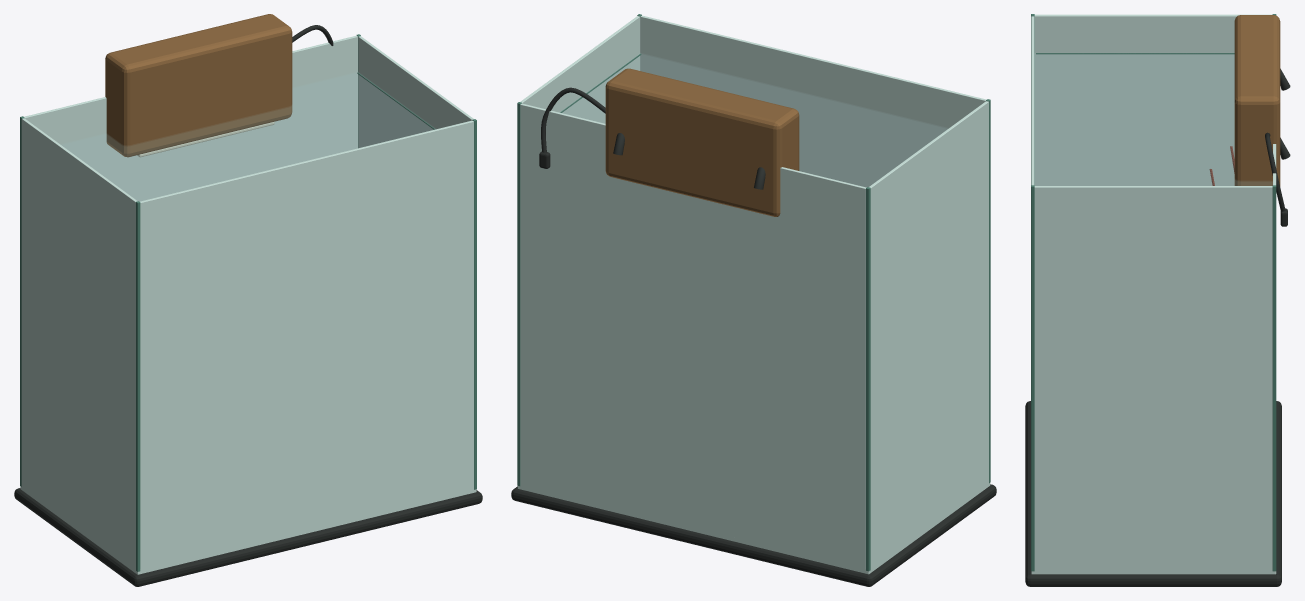
File: A-NEW-20261026-AQUARIUM-001_LOD0_R2.fbx
The picture shows the model from 3 angles, left to right: view 1: azimuth 30°, elevation 25°; view 2: azimuth 150°, elevation 25°; view 3: azimuth 270°, elevation 25°; orthographic projection. The views are drawn at different scales.
Parts seen in each view (by area): view 1: front back glass, side glass, plain upper rear housing, front back glass.001, water surface, side glass.001, aquarium plinth, bottom glass, glass vertical edge seam, glass vertical edge seam.002, glass vertical edge seam.001; view 2: front back glass.001, side glass, front back glass, plain upper rear housing, water surface, aquarium plinth, side glass.001, bottom glass, glass vertical edge seam.001, glass vertical edge seam.003, glass vertical edge seam, short completed cable; view 3: side glass.001, side glass, water surface, plain upper rear housing, aquarium plinth, glass vertical edge seam.003, glass vertical edge seam.002, bottom glass, front back glass, short completed cable, side waterline.
Part boxes in pixels (bbox=[...]): front back glass: bbox=[140, 120, 473, 569]; side glass: bbox=[21, 118, 137, 568]; plain upper rear housing: bbox=[105, 14, 292, 157]; front back glass.001: bbox=[24, 35, 357, 201]; water surface: bbox=[62, 73, 433, 200]; side glass.001: bbox=[358, 36, 473, 148]; aquarium plinth: bbox=[14, 488, 482, 586]; bottom glass: bbox=[20, 486, 476, 574]; glass vertical edge seam: bbox=[136, 201, 140, 571]; glass vertical edge seam.002: bbox=[472, 119, 476, 489]; glass vertical edge seam.001: bbox=[20, 116, 24, 486]; front back glass.001: bbox=[520, 103, 866, 569]; side glass: bbox=[869, 101, 988, 568]; front back glass: bbox=[640, 15, 986, 187]; plain upper rear housing: bbox=[605, 68, 799, 216]; water surface: bbox=[563, 54, 946, 186]; aquarium plinth: bbox=[511, 484, 996, 586]; side glass.001: bbox=[520, 16, 640, 123]; bottom glass: bbox=[517, 482, 990, 574]; glass vertical edge seam.001: bbox=[866, 187, 870, 571]; glass vertical edge seam.003: bbox=[517, 102, 521, 486]; glass vertical edge seam: bbox=[986, 99, 990, 483]; short completed cable: bbox=[541, 87, 605, 152]; side glass.001: bbox=[1034, 186, 1272, 570]; side glass: bbox=[1034, 14, 1272, 185]; water surface: bbox=[1035, 54, 1272, 185]; plain upper rear housing: bbox=[1234, 15, 1280, 186]; aquarium plinth: bbox=[1025, 401, 1281, 586]; glass vertical edge seam.003: bbox=[1272, 185, 1276, 571]; glass vertical edge seam.002: bbox=[1031, 185, 1034, 571]; bottom glass: bbox=[1031, 570, 1276, 574]; front back glass: bbox=[1031, 16, 1034, 185]; short completed cable: bbox=[1265, 132, 1285, 211]; side waterline: bbox=[1036, 53, 1234, 54].
Bounding box in the file's own units: 51.4 × 60 × 32.46.
